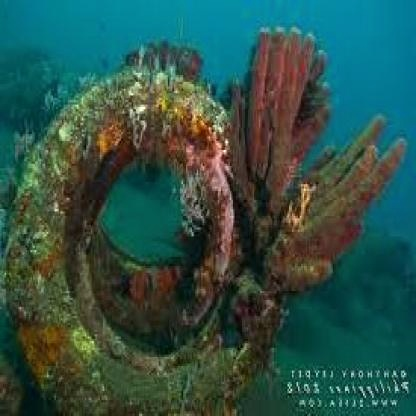tire: (8, 68, 239, 407)
